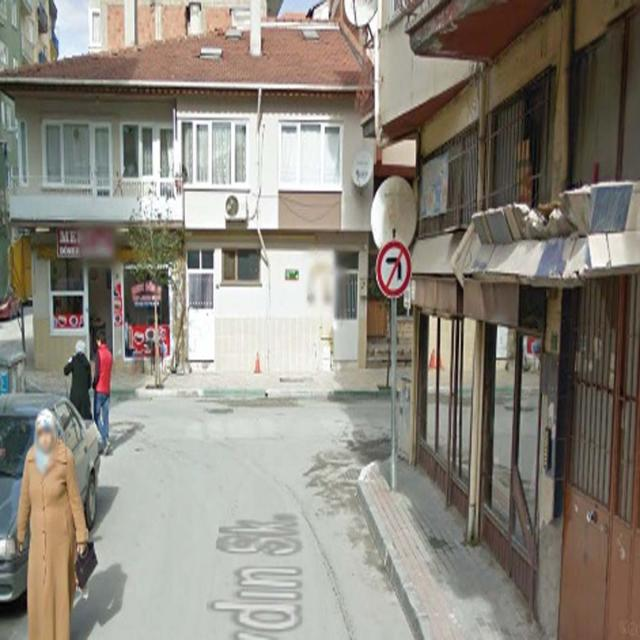soladonulmez: (375, 240, 412, 298)
